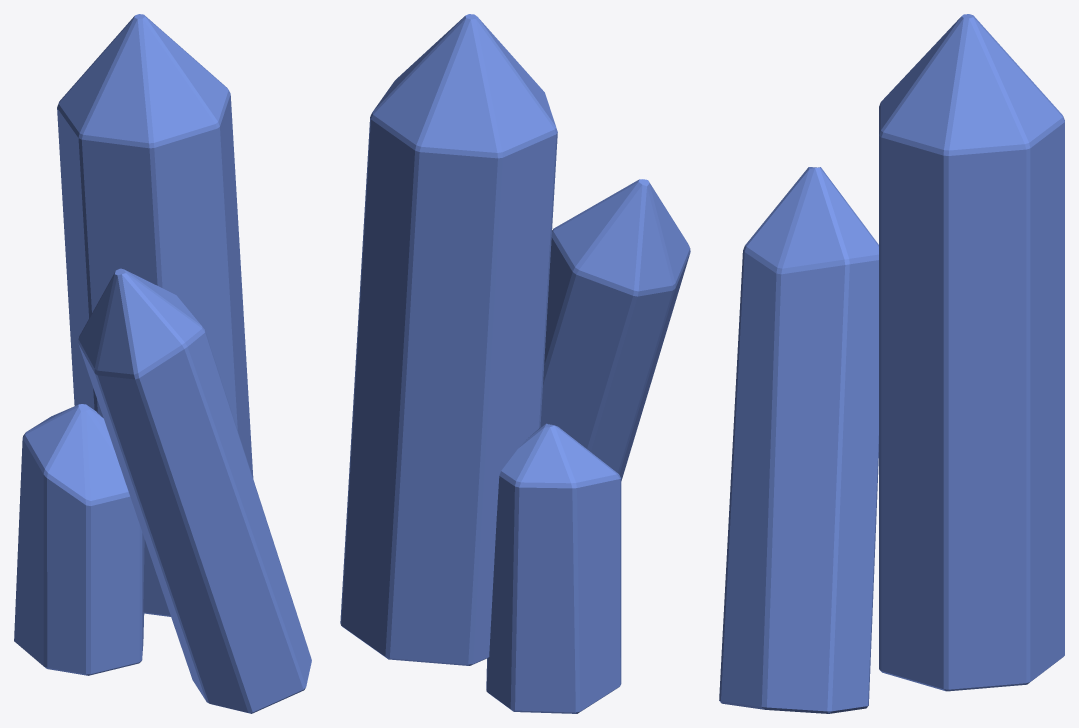
Rendered from 15-Crystal.fbx.
3 views of the same model, side by side, from view 1: azimuth 30°, elevation 25°; view 2: azimuth 150°, elevation 25°; view 3: azimuth 270°, elevation 25° (orthographic). The views are drawn at different scales.
Parts seen in each view (by area): view 1: CrystalTwo, Crystal, CrystalOne; view 2: Crystal, CrystalOne, CrystalTwo; view 3: Crystal, CrystalTwo.
Boxes of the visible parts, x1,y1,x2,y2 form: CrystalTwo: [78, 268, 311, 713]; Crystal: [57, 14, 253, 616]; CrystalOne: [14, 404, 144, 675]; Crystal: [340, 14, 557, 665]; CrystalOne: [486, 423, 621, 713]; CrystalTwo: [540, 179, 690, 480]; Crystal: [879, 14, 1064, 691]; CrystalTwo: [719, 167, 878, 713].
Bounding box in the file's own units: 98.06 × 261 × 119.
